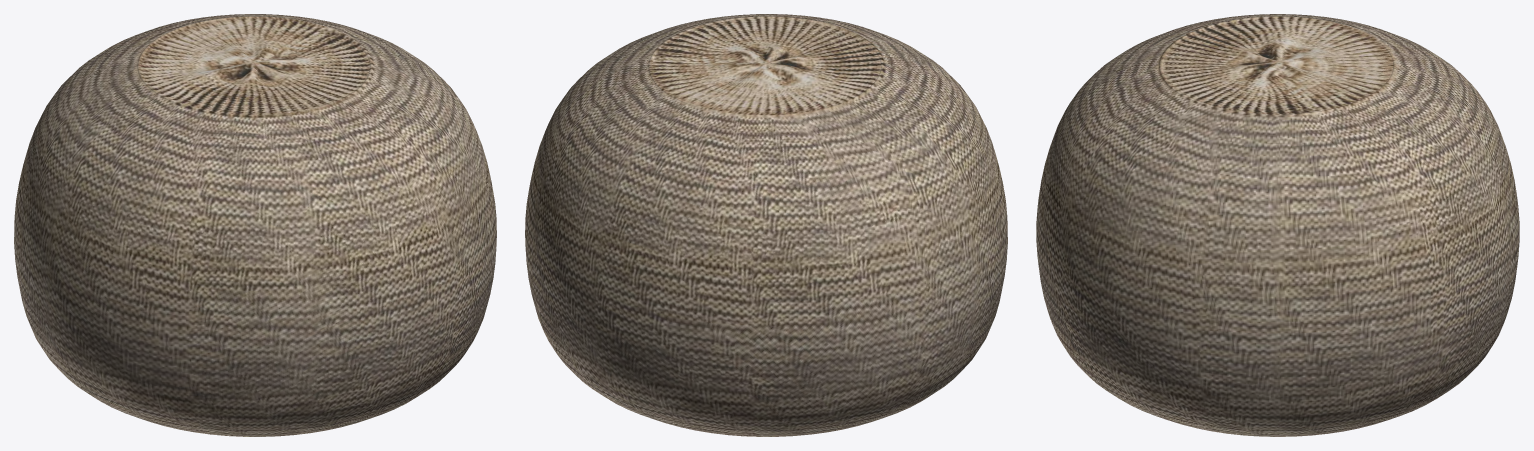
3 views of the same model, side by side, from view 1: azimuth 30°, elevation 25°; view 2: azimuth 150°, elevation 25°; view 3: azimuth 270°, elevation 25° (orthographic).
Visible parts, largest first — view 1: Mesh_0; view 2: Mesh_0; view 3: Mesh_0.
Boxes of the visible parts, left/top/right/bottom form: Mesh_0: left=14, top=14, right=496, bottom=436; Mesh_0: left=525, top=14, right=1007, bottom=436; Mesh_0: left=1036, top=14, right=1519, bottom=436.
Size of the model in its own units: 0.45 by 0.33 by 0.45.
Materials: 1 (1 with a texture image).
